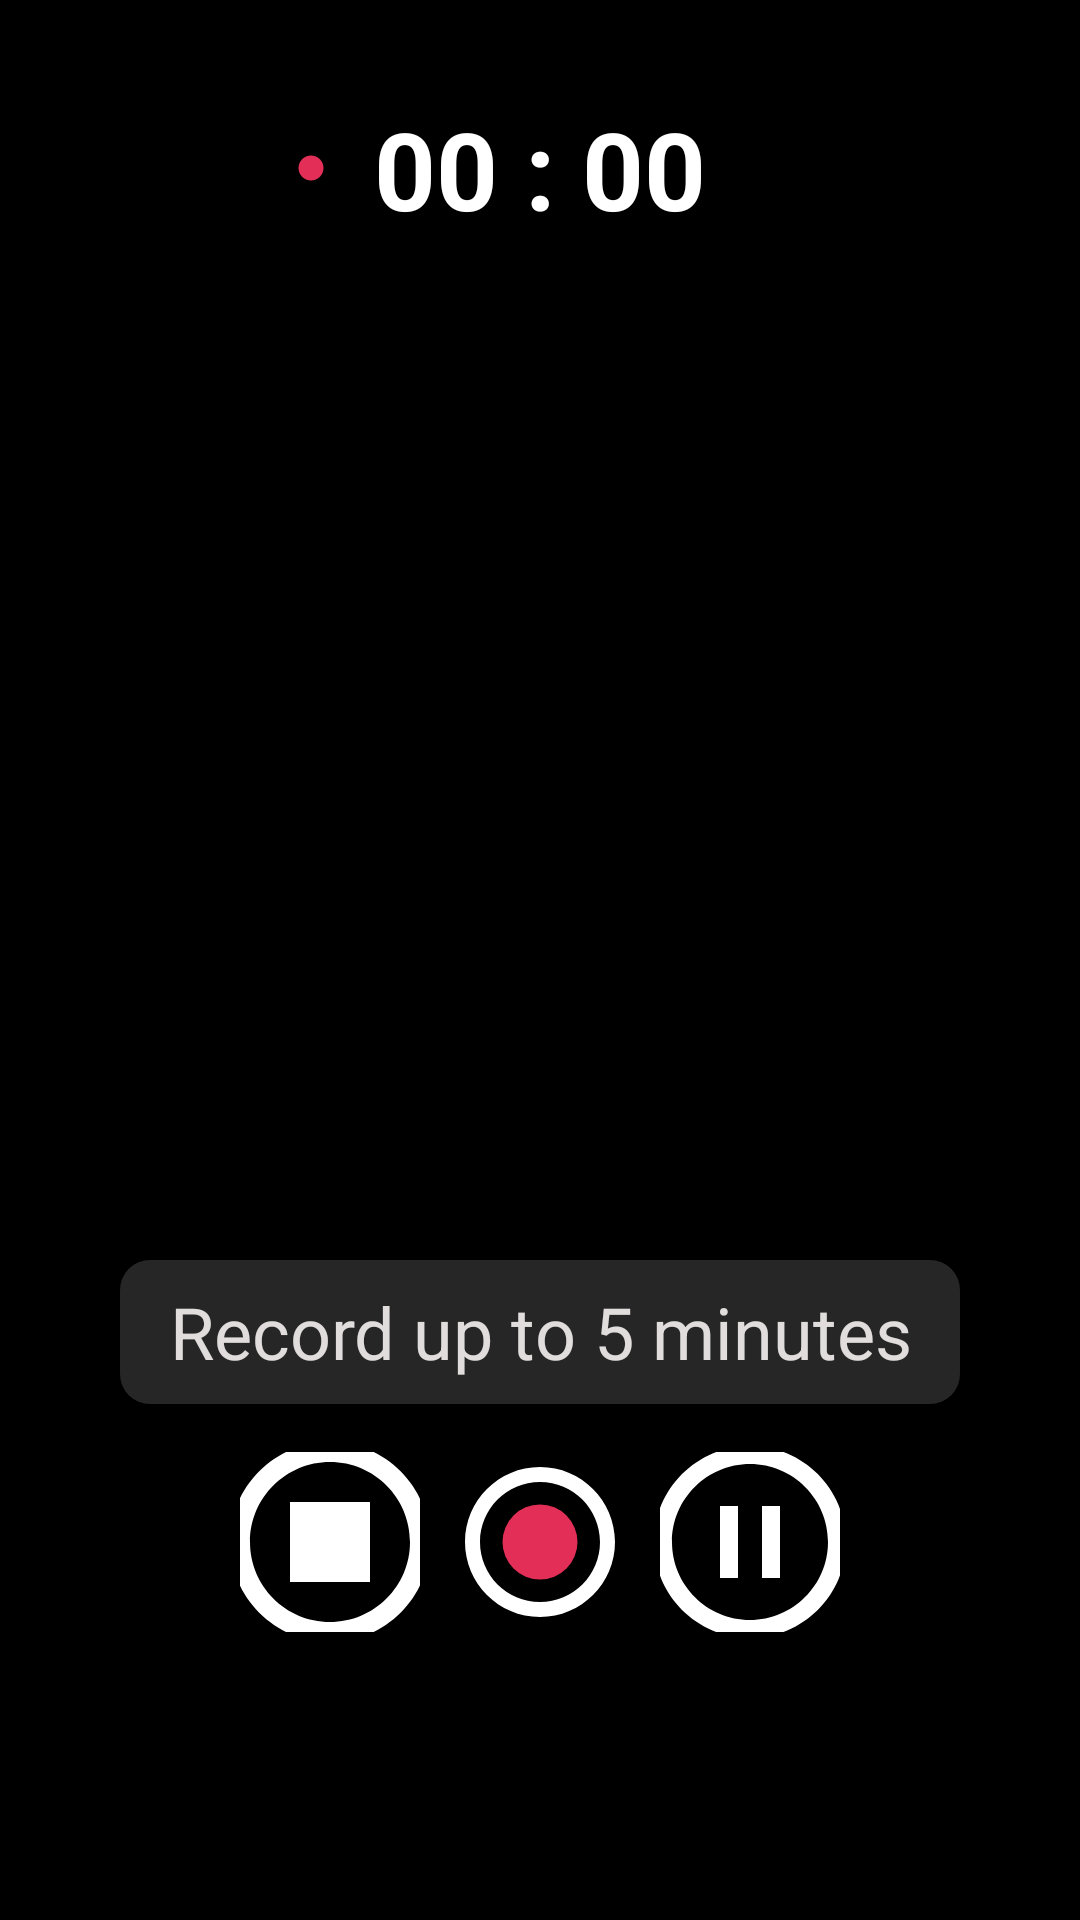

Where to tap for icons on this 1080w x 1920h app screen, as (x,y):
pause: (750,1542)
radio checked: (540,1542)
stop: (330,1542)
